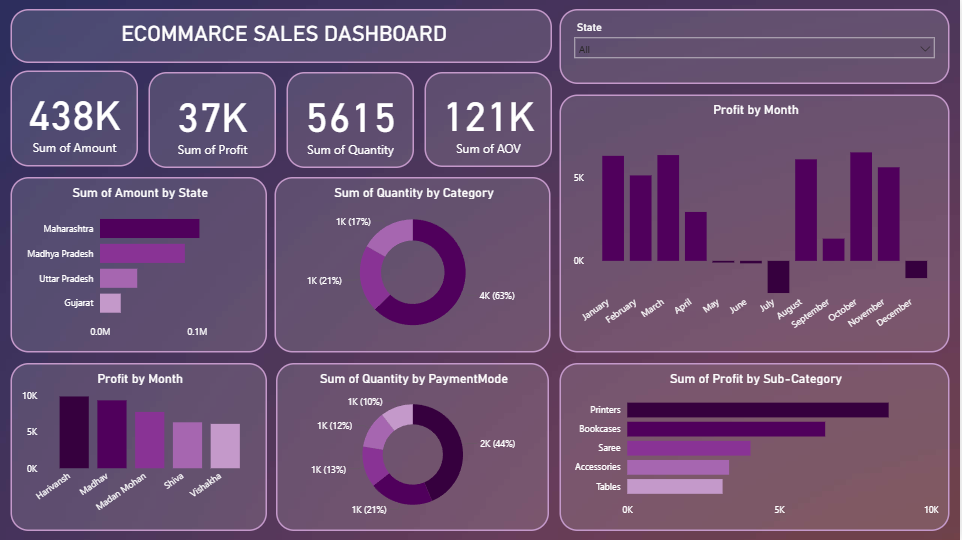

What the dashboard file says about the page in this screenshot:
{"tool":"powerbi","page":{"name":"Page 1","canvas":[1280,720],"ordinal":0},"visuals":[{"type":"columnChart","title":"Profit by Month","fields":{"Y":["Details.Profit"],"Category":["Orders.Order Date.Variation.Date Hierarchy.Month"]},"box":[745.5,140.7,501.7,317.3],"z":0},{"type":"barChart","fields":{"Category":["Details.Sub-Category"],"Y":["Details.Profit"]},"box":[745.5,487.7,501.7,204.8],"z":1000},{"type":"donutChart","fields":{"Category":["Details.Category"],"Y":["Details.Quantity"]},"box":[366.2,245,367.5,212.5],"z":2000},{"type":"donutChart","fields":{"Y":["Details.Quantity"],"Category":["Details.PaymentMode"]},"box":[367.5,470,365,222.5],"z":3000},{"type":"card","fields":{"Values":["Details.Amount"]},"box":[31.7,96.7,170,126.7],"z":4000},{"type":"card","fields":{"Values":["Details.Profit"]},"box":[209.4,96.7,170,126.7],"z":5000},{"type":"card","fields":{"Values":["Details.Quantity"]},"box":[387.2,96.7,170,126.7],"z":6000},{"type":"card","fields":{"Values":["Details.AOV"]},"box":[565,96.7,170,126.7],"z":7000},{"type":"barChart","fields":{"Category":["Orders.State"],"Y":["Details.Amount"]},"box":[31.7,245,323.3,213.3],"z":8000},{"type":"columnChart","title":"Profit by Month","fields":{"Category":["Orders.CustomerName"],"Y":["Details.Amount"]},"box":[31.7,470,323.3,223.3],"z":9000},{"type":"textbox","box":[31.7,11.7,703.3,71.7],"z":10000},{"type":"slicer","fields":{"Values":["Orders.State"]},"box":[745,11.7,503.3,100],"z":11000}]}

Visuals, with their boxes in screenshot pixels (x1, y1, x2, y2), scaled from the page's 1280x720 canvas onto the 962x540 screenshot:
"Profit by Month" columnChart: region(560, 106, 937, 344)
barChart - Details.Sub-Category x Details.Profit: region(560, 366, 937, 519)
donutChart - Details.Category x Details.Quantity: region(275, 184, 551, 343)
donutChart - Details.Quantity x Details.PaymentMode: region(276, 352, 551, 519)
card - Details.Amount: region(24, 73, 152, 168)
card - Details.Profit: region(157, 73, 285, 168)
card - Details.Quantity: region(291, 73, 419, 168)
card - Details.AOV: region(425, 73, 552, 168)
barChart - Orders.State x Details.Amount: region(24, 184, 267, 344)
"Profit by Month" columnChart: region(24, 352, 267, 520)
textbox: region(24, 9, 552, 63)
slicer - Orders.State: region(560, 9, 938, 84)
